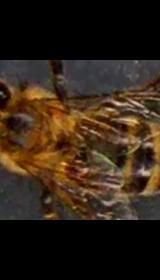varroa_mite: (54, 152, 92, 182)
